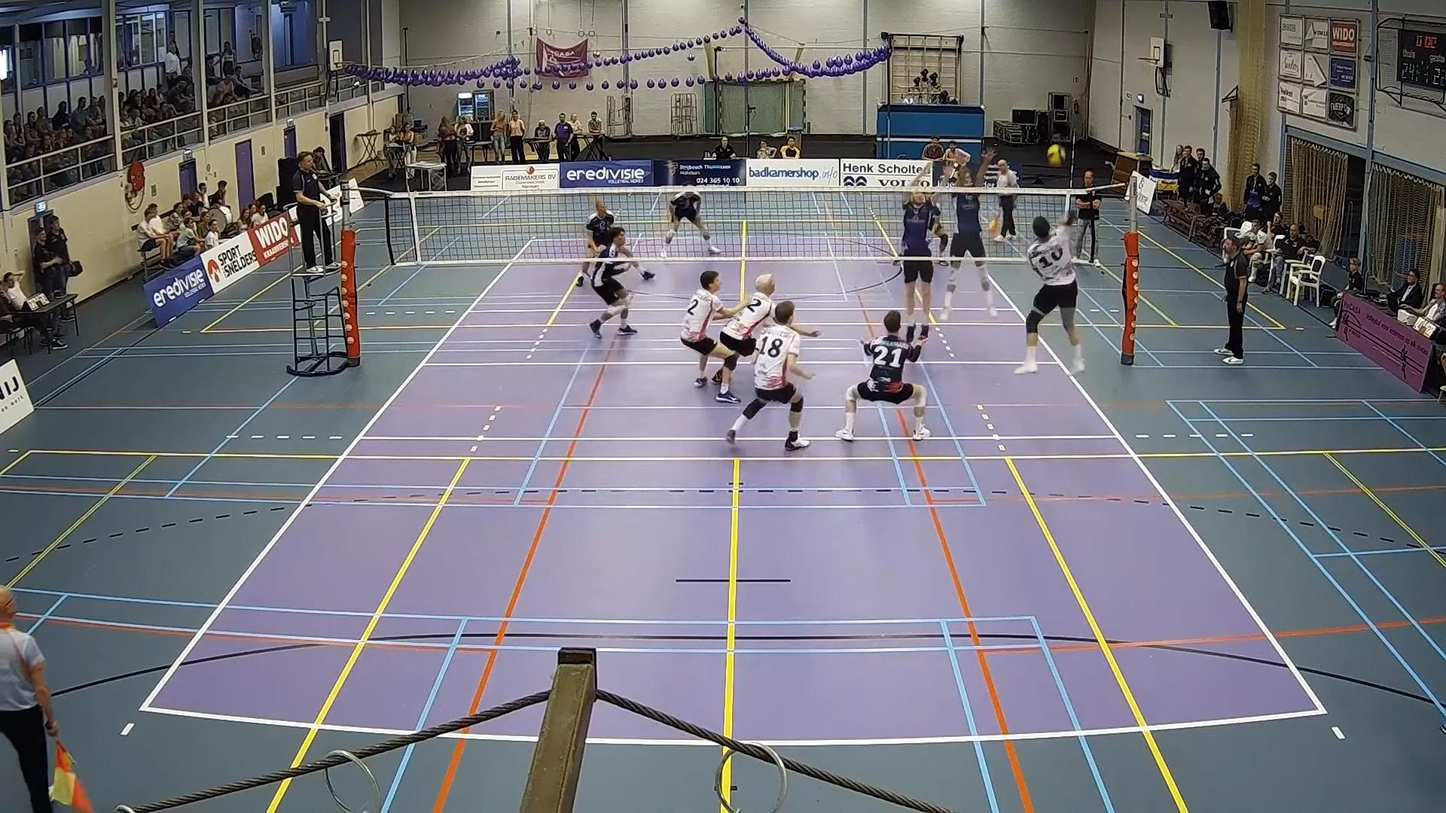Attack: (1007, 195, 1081, 378)
Block: (885, 149, 942, 331), (950, 143, 999, 325)
Player: (726, 300, 812, 450), (835, 311, 929, 440), (681, 270, 748, 403), (584, 226, 637, 337), (719, 274, 775, 358), (660, 188, 721, 257), (577, 199, 616, 285)
ball: (1047, 143, 1064, 165)
